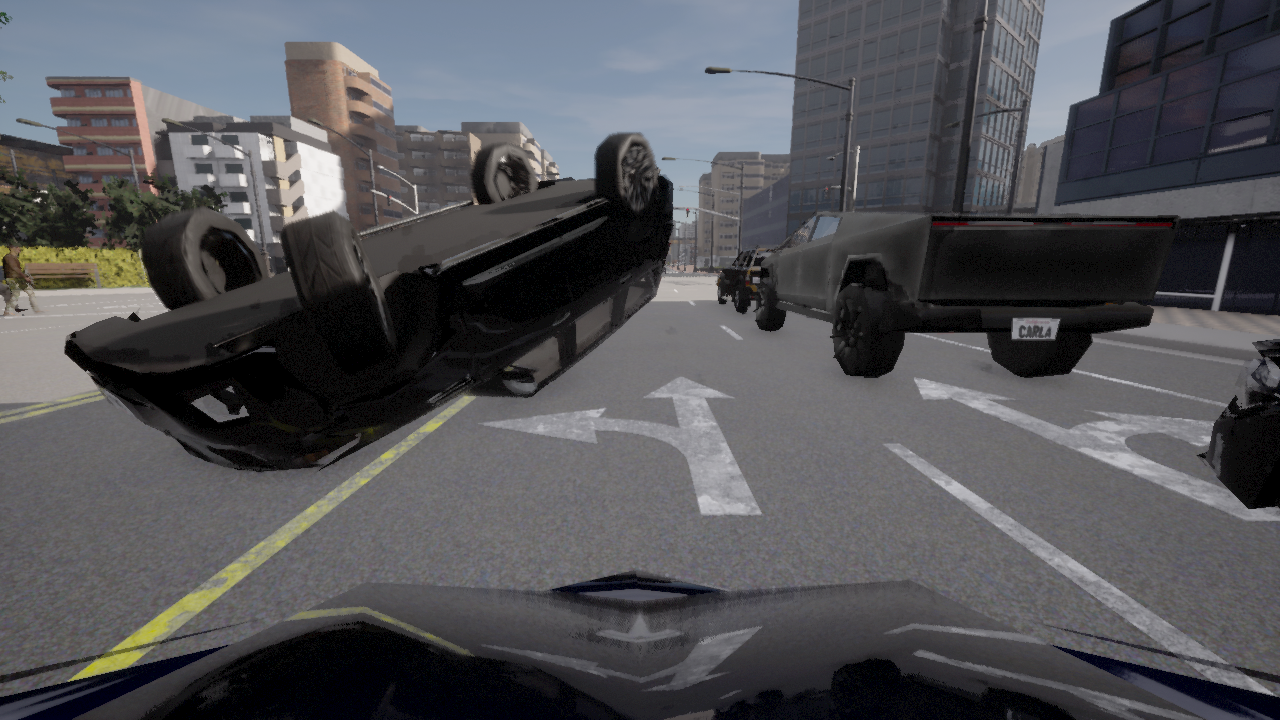cyclist: (65, 133, 674, 475), (0, 569, 1279, 719), (751, 211, 1179, 377), (1195, 338, 1279, 509), (716, 244, 777, 312), (663, 267, 665, 272)
pedestrian: (3, 243, 49, 316), (0, 264, 29, 312)
